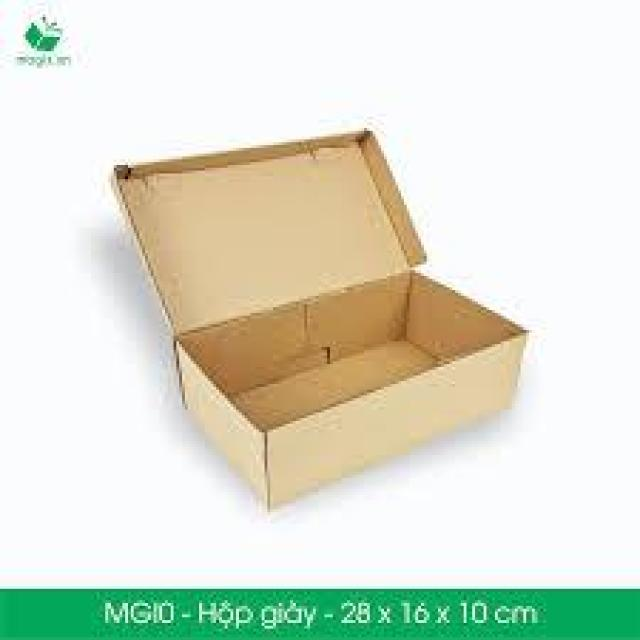box: (112, 128, 531, 511)
